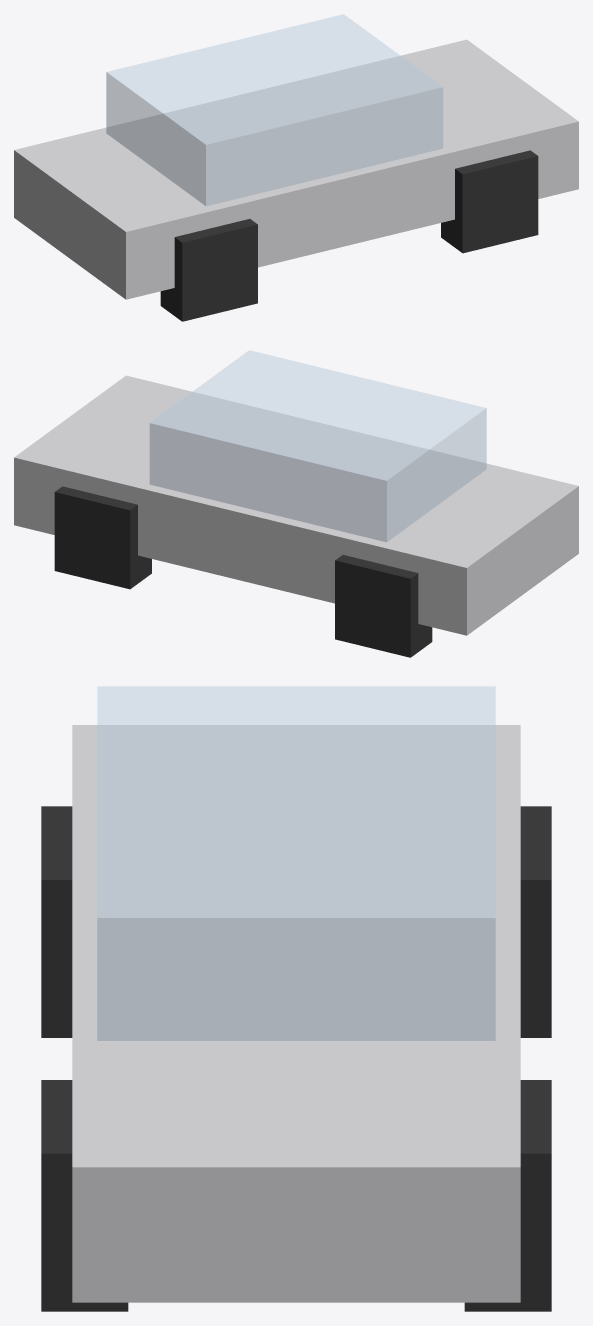
File: placeholder-car.gltf
3 renders of one model, top to bottom at view 1: azimuth 30°, elevation 25°; view 2: azimuth 150°, elevation 25°; view 3: azimuth 270°, elevation 25°, orthographic. The views are drawn at different scales.
Parts seen in each view (by area): view 1: Body, Cabin, WheelFrontLeft, WheelRearLeft; view 2: Body, Cabin, WheelFrontRight, WheelRearRight; view 3: Body, Cabin, WheelFrontLeft, WheelFrontRight, WheelRearLeft, WheelRearRight.
Part boxes in pixels (x1=…): Body: x1=14, y1=39, x2=578, y2=299; Cabin: x1=106, y1=14, x2=443, y2=205; WheelFrontLeft: x1=441, y1=150, x2=538, y2=253; WheelRearLeft: x1=160, y1=219, x2=257, y2=321; Body: x1=14, y1=375, x2=578, y2=635; Cabin: x1=149, y1=350, x2=486, y2=542; WheelFrontRight: x1=54, y1=486, x2=151, y2=589; WheelRearRight: x1=335, y1=555, x2=432, y2=657; Body: x1=72, y1=725, x2=520, y2=1302; Cabin: x1=97, y1=686, x2=495, y2=1040; WheelFrontLeft: x1=41, y1=1080, x2=128, y2=1311; WheelFrontRight: x1=464, y1=1080, x2=551, y2=1311; WheelRearLeft: x1=41, y1=806, x2=72, y2=1037; WheelRearRight: x1=520, y1=806, x2=551, y2=1037.
Size of the model in its own units: 4.2 by 1.4 by 2.05.
